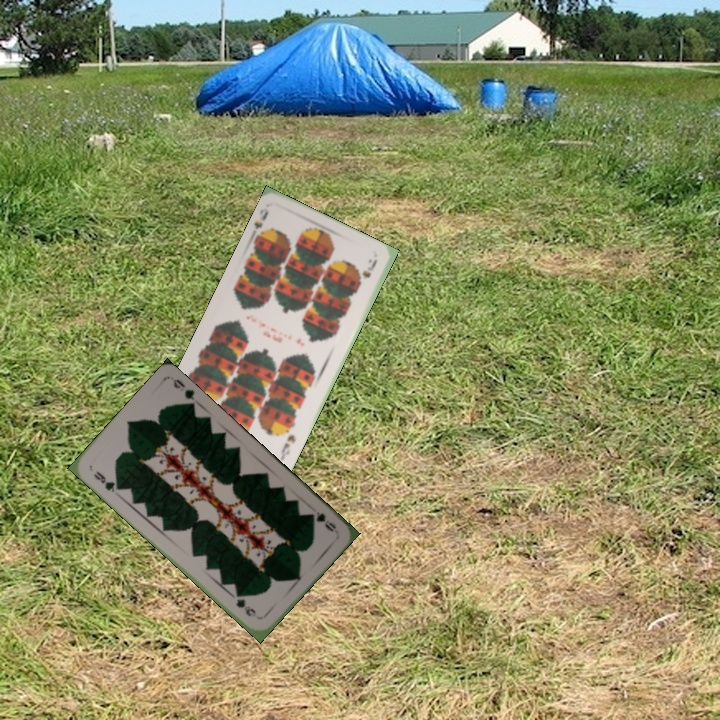G9: (89, 467, 123, 494), (305, 508, 339, 535)
S9: (246, 207, 271, 242), (276, 431, 298, 463)
